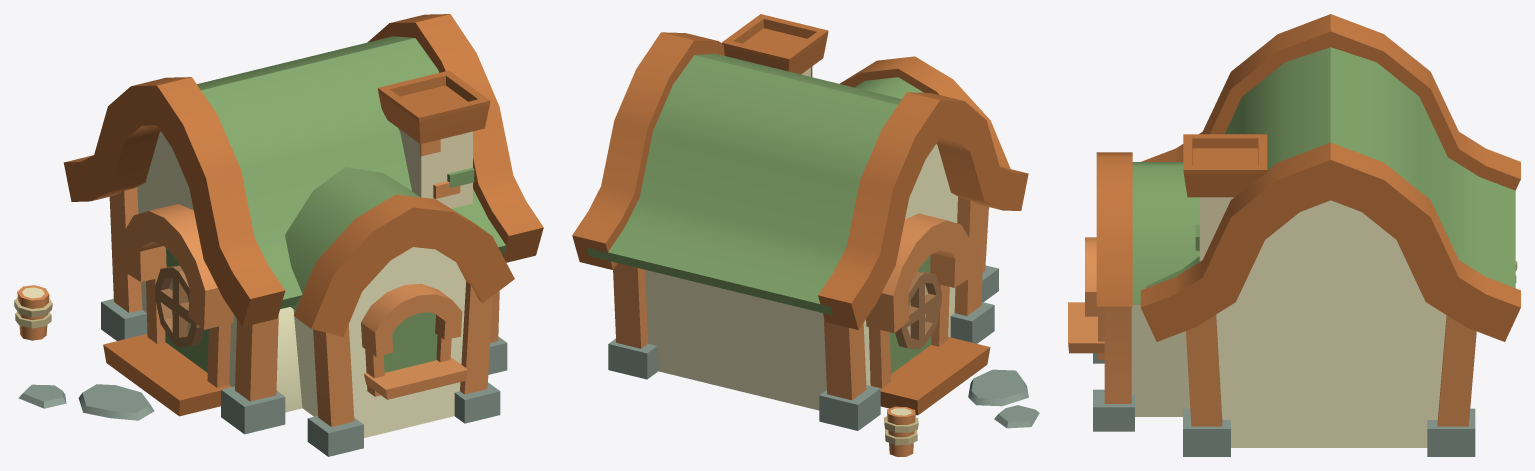
The model's file is Home_02.fbx.
3 views of the same model, side by side, from view 1: azimuth 30°, elevation 25°; view 2: azimuth 150°, elevation 25°; view 3: azimuth 270°, elevation 25° (orthographic). The views are drawn at different scales.
Visible parts, largest first — view 1: Home_02; view 2: Home_02; view 3: Home_02.
Boxes of the visible parts, x1=… form: Home_02: x1=14, y1=14, x2=543, y2=456; Home_02: x1=572, y1=14, x2=1039, y2=456; Home_02: x1=1068, y1=14, x2=1520, y2=456.
Bounding box in the file's own units: 805 × 563 × 754.
